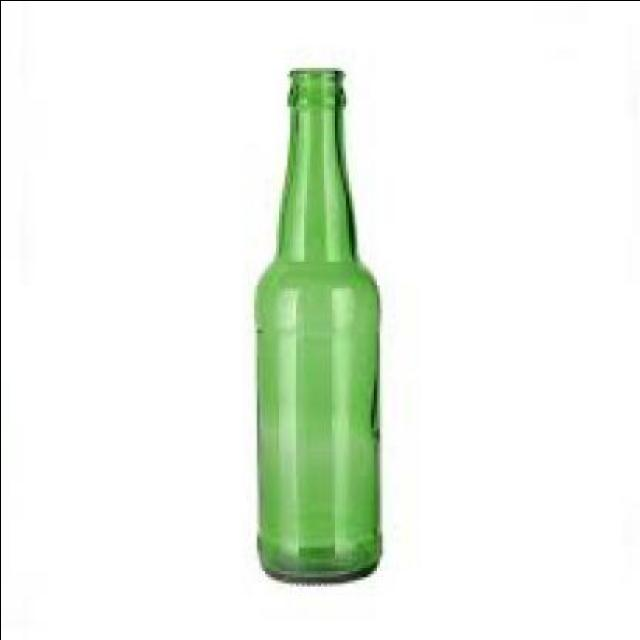kaca: (258, 63, 380, 580)
